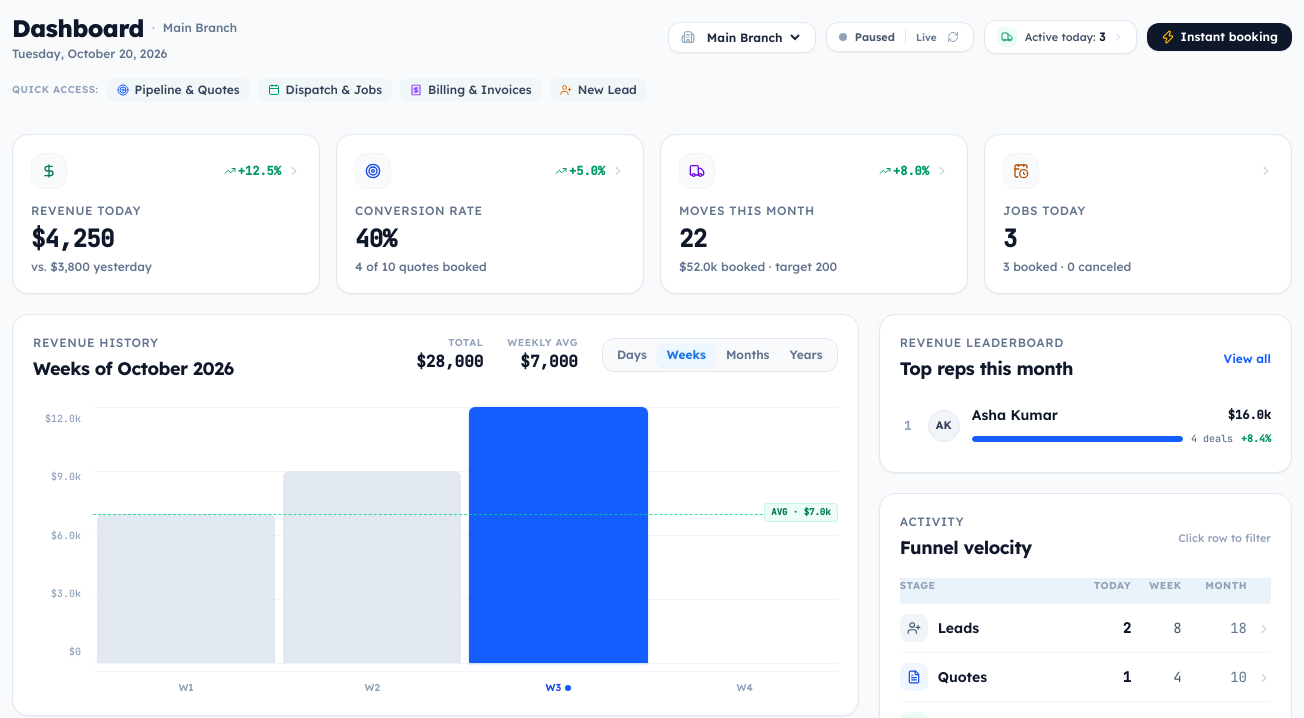
Test: Dashboard › uses backend revenue history buckets when changing chart modes
Check: the text "$28,000" is shown, box [416,350,483,374]
Click the button "Months". click: {"x": 748, "y": 354}
box: [716,342,780,366]
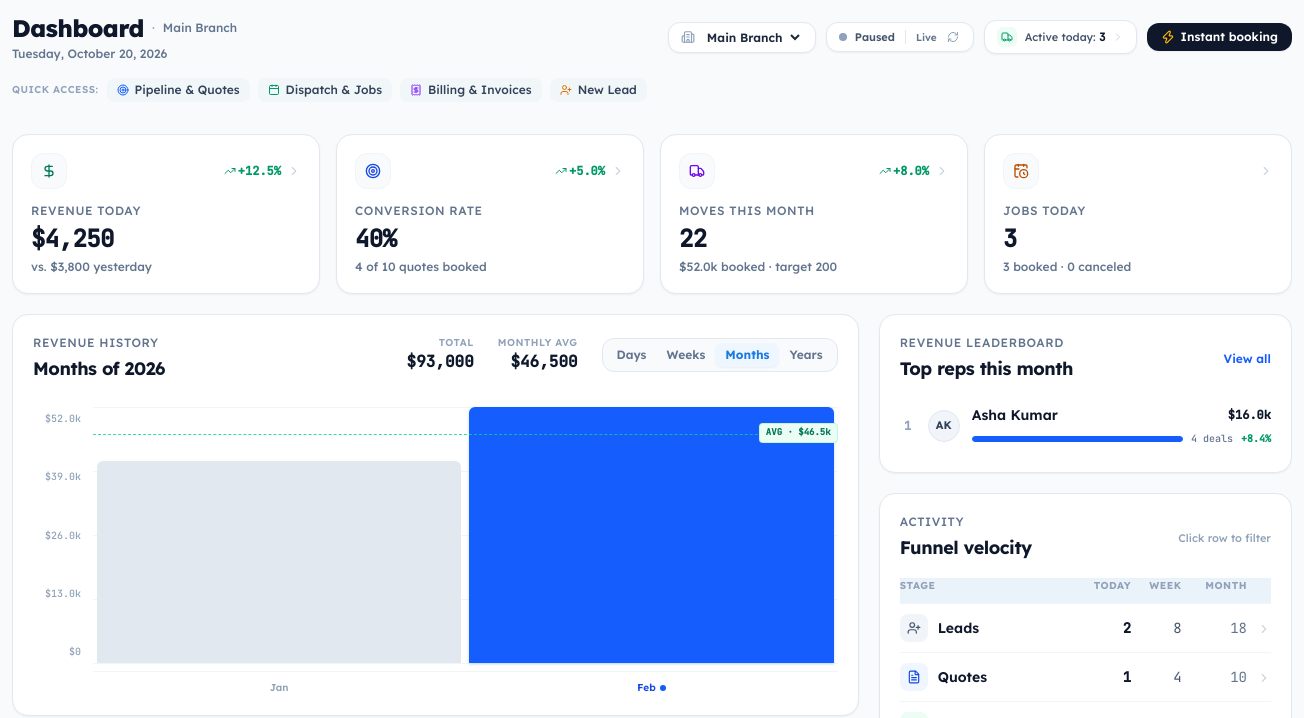
Check: the text "$93,000" is shown, box [407,350,474,374]
Click the button "Years". click: {"x": 806, "y": 354}
box: [780,342,833,366]
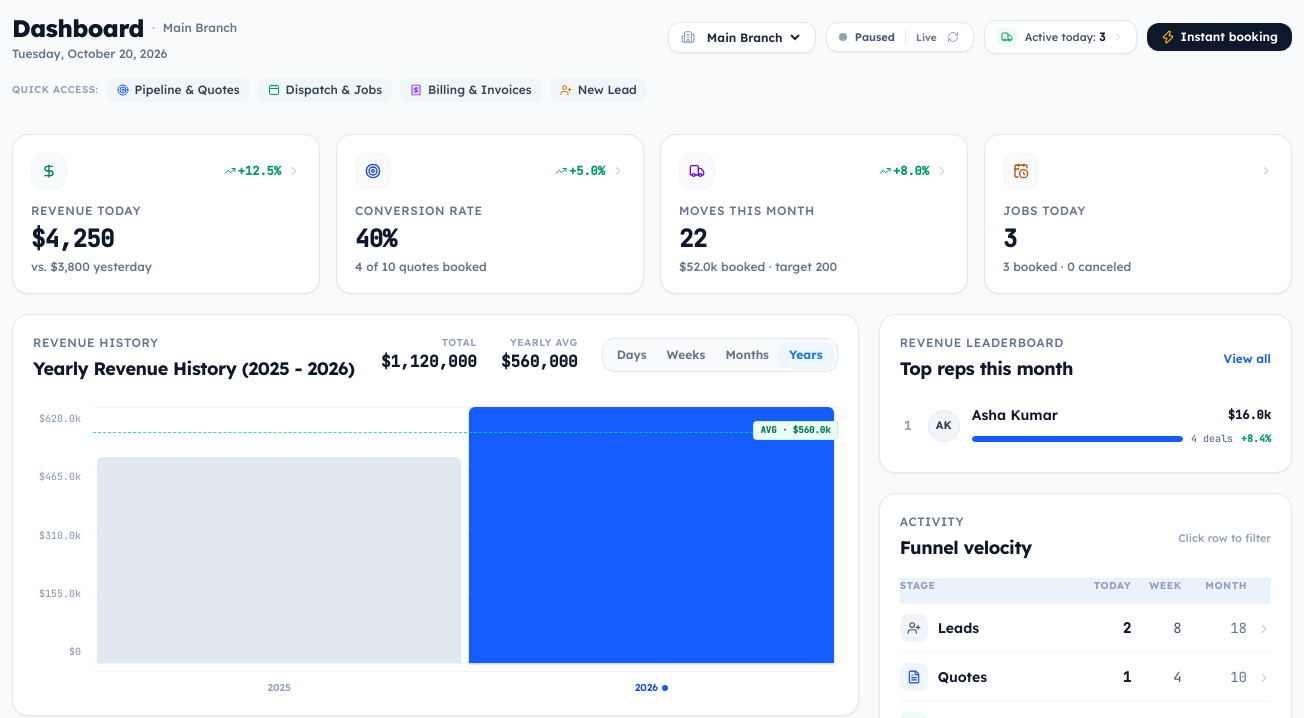
Check: the text "$1,120,000" is shown, box [381,350,477,374]
Click the button "Days". click: {"x": 632, "y": 354}
box: [607,342,657,366]
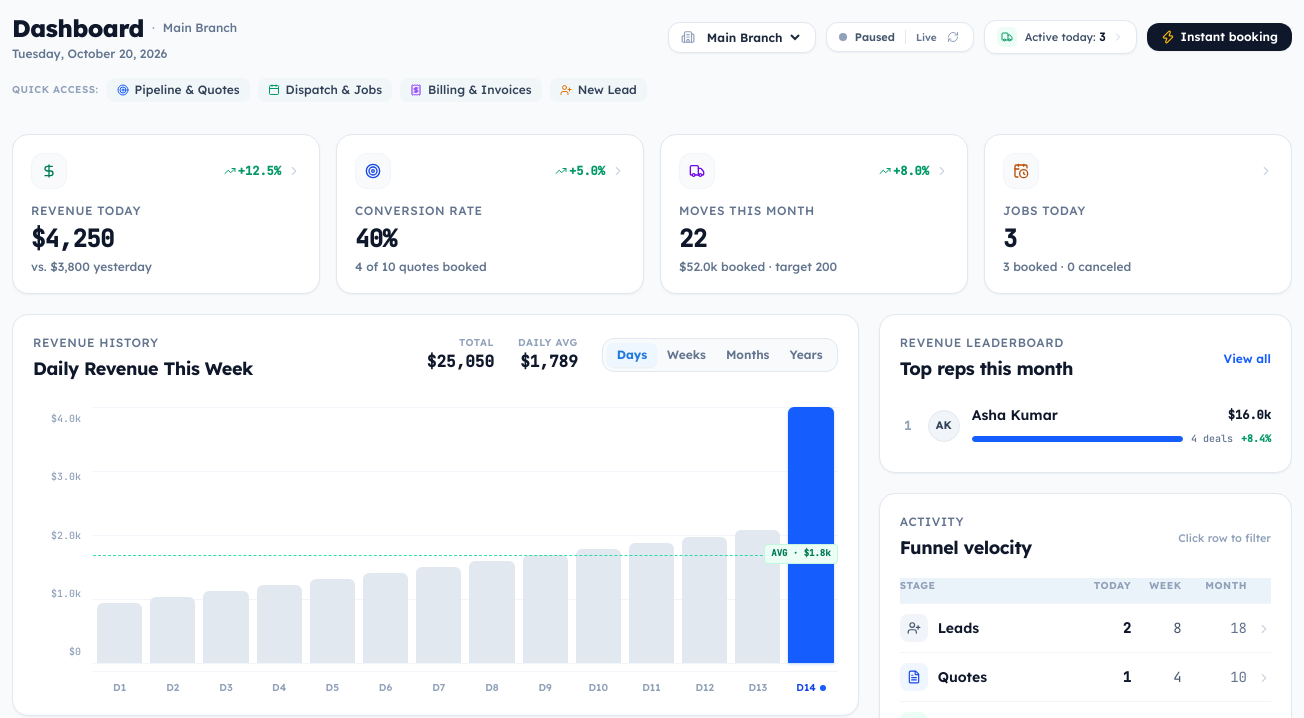
Check: the heading "Daily Revenue This Week" is shown, box [33,355,253,383]
